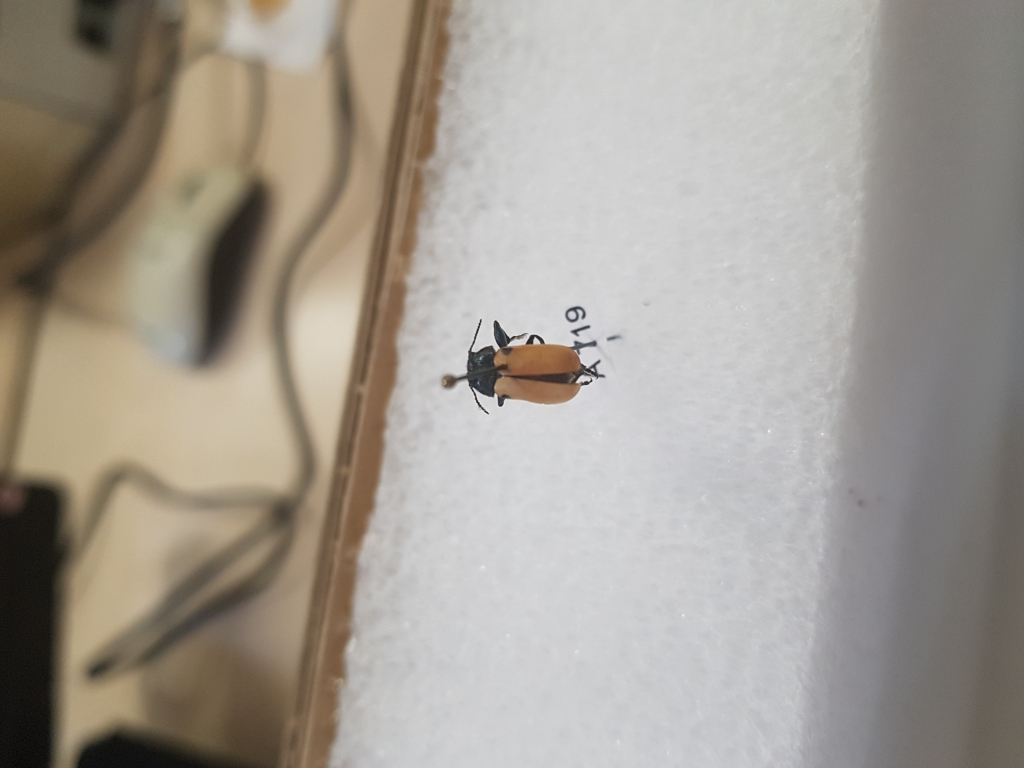Labidostomis_propinqua: (461, 307, 605, 419)
